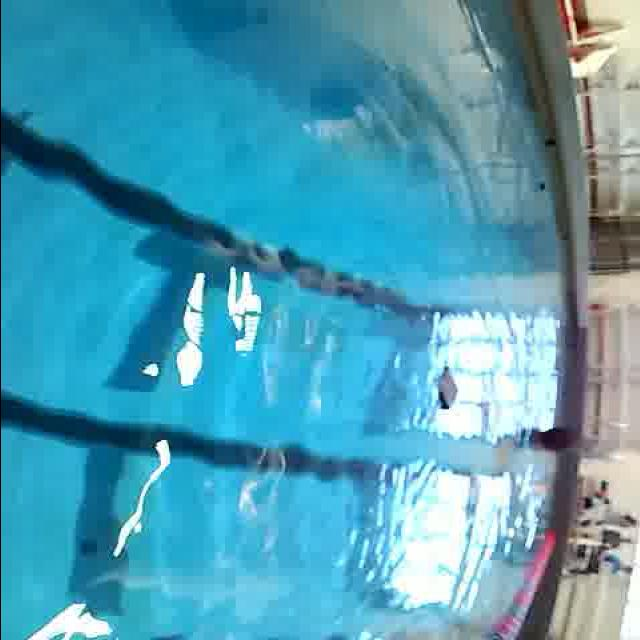CamMount: (424, 365, 461, 413)
